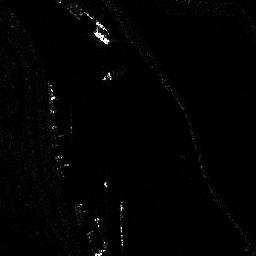ship: (93, 30, 110, 45)
